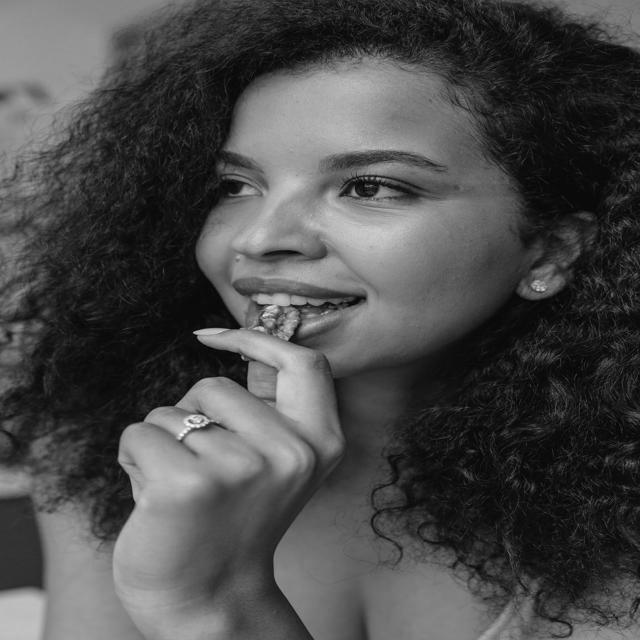Happiness: (190, 62, 512, 380)
